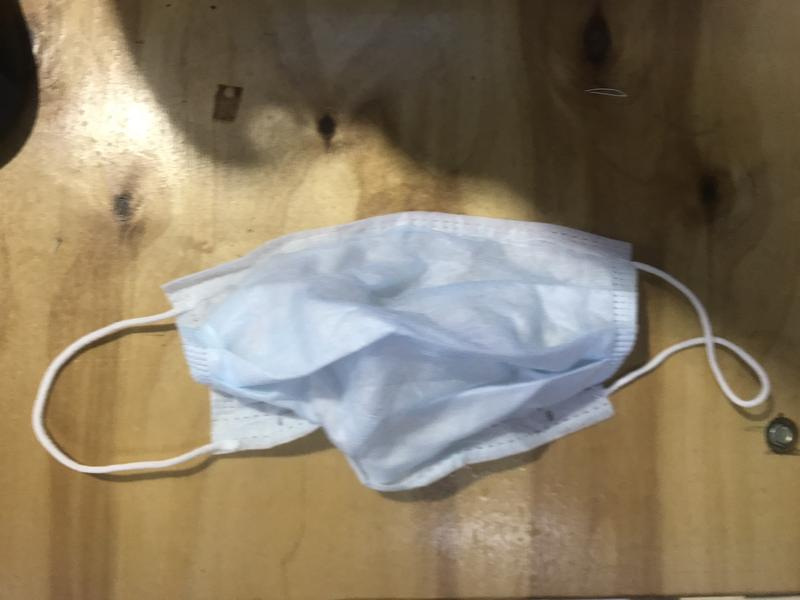medical_mask: (32, 209, 768, 497)
